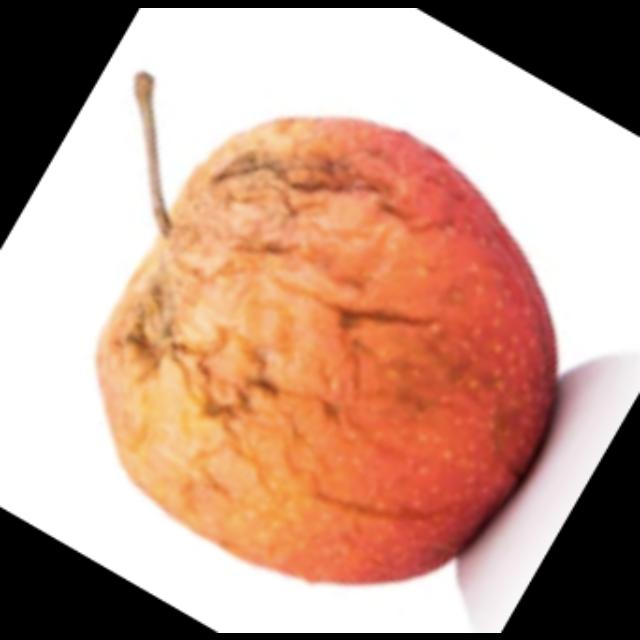Apel Tidak Segar: (81, 52, 587, 618)
